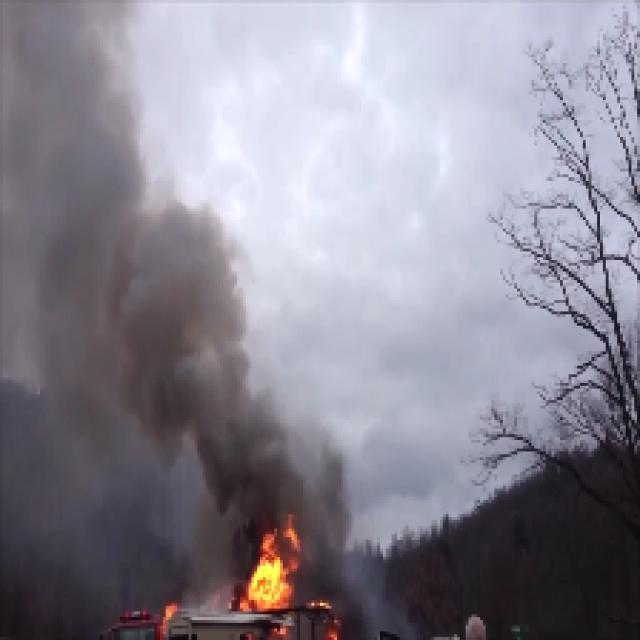smoke: (0, 4, 153, 559)
